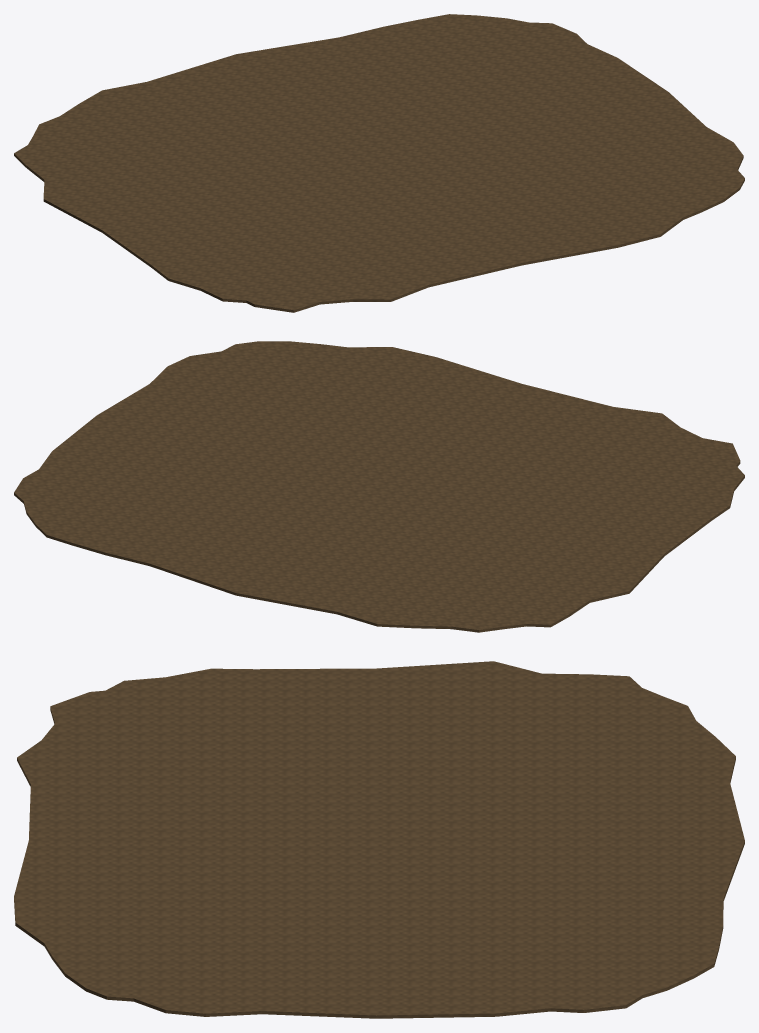
The model's file is room_earth_base.fbx.
3 renders of one model, top to bottom at view 1: azimuth 30°, elevation 25°; view 2: azimuth 150°, elevation 25°; view 3: azimuth 270°, elevation 25°, orthographic. The views are drawn at different scales.
Parts seen in each view (by area): view 1: room_earth_base; view 2: room_earth_base; view 3: room_earth_base.
Part boxes in pixels (x1,y1,x2,y2): room_earth_base: (14,14,744,312); room_earth_base: (14,341,744,632); room_earth_base: (14,661,744,1018).
Size of the model in its own units: 302562 by 263834 by 1300.
